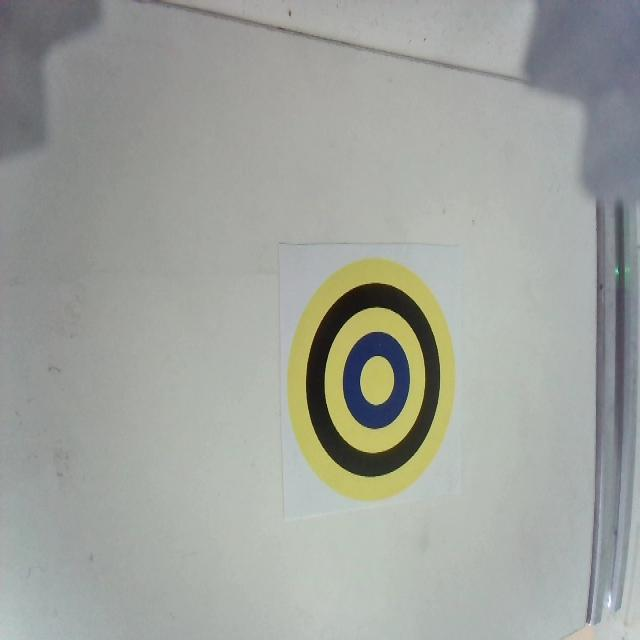cogn: (288, 257, 455, 500)
